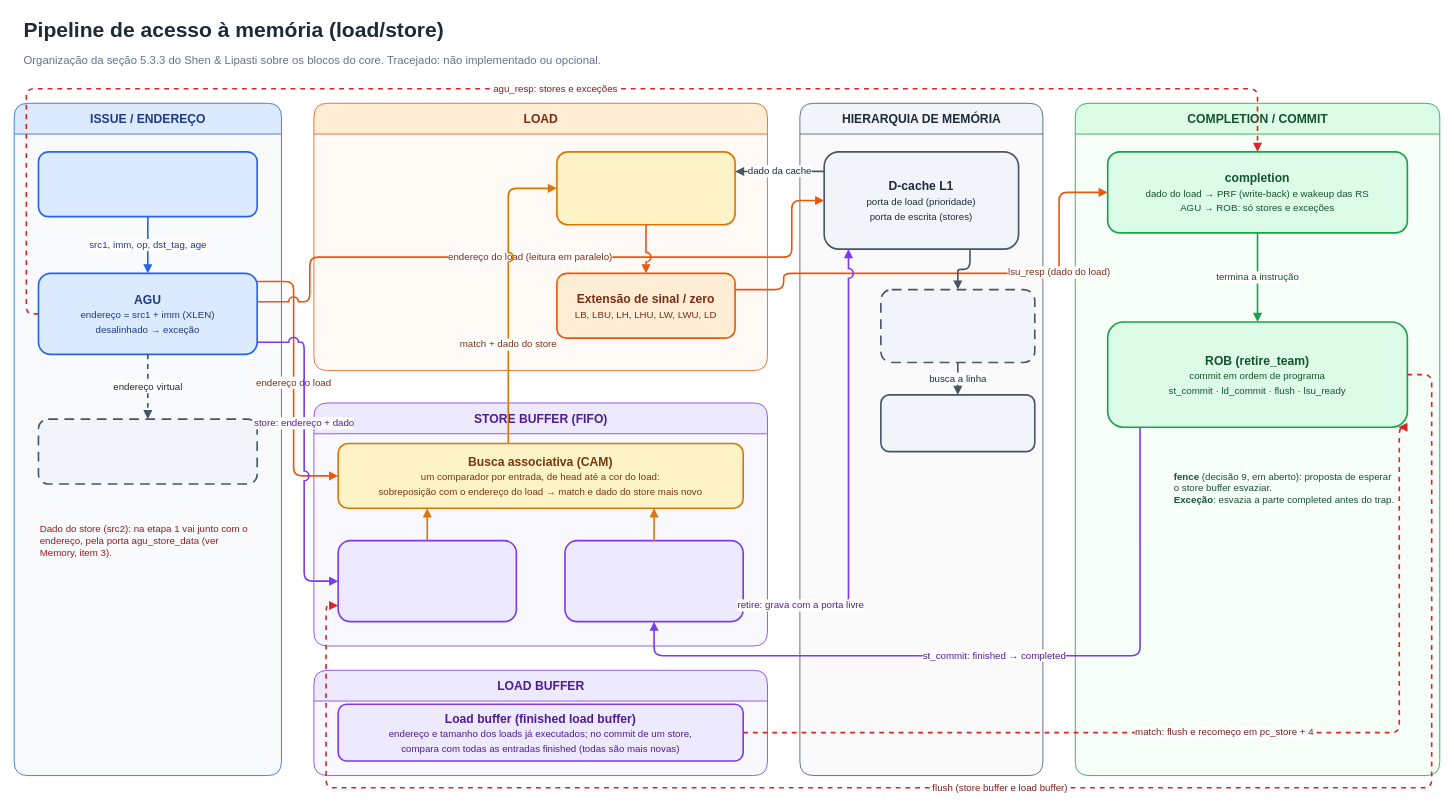
The diagram is 1454 pixels wide and 808 high, and some of its shapes have lost their labels. The centre of each missing label's shape, as x and y in pixels:
"Completed já fez commit espera a porta de escrita" goes at (654,580).
"Finished especulativo: endereço, dado, idade flush descarta" goes at (427,580).
"L2 / DRAM entrega linhas inteiras" goes at (957,423).
"Missed load queue recebe os misses cache não bloqueante (opcional)" goes at (957,325).
"MUX de forwarding match → dado do store sem match → dado da cache" goes at (645,188).
"RS de memória (rs_mem) lê src1/src2 do PRF no issue" goes at (147,184).
"TLB não implementada: endereço virtual = físico" goes at (147,451).
